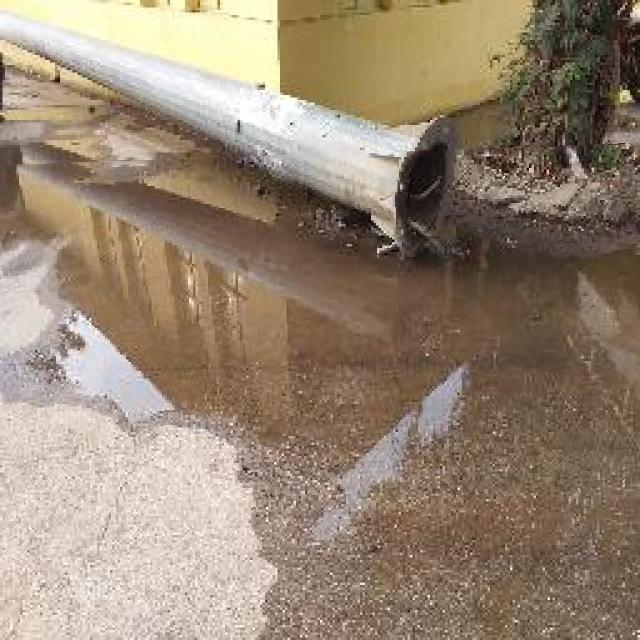puddle: (1, 149, 640, 554)
